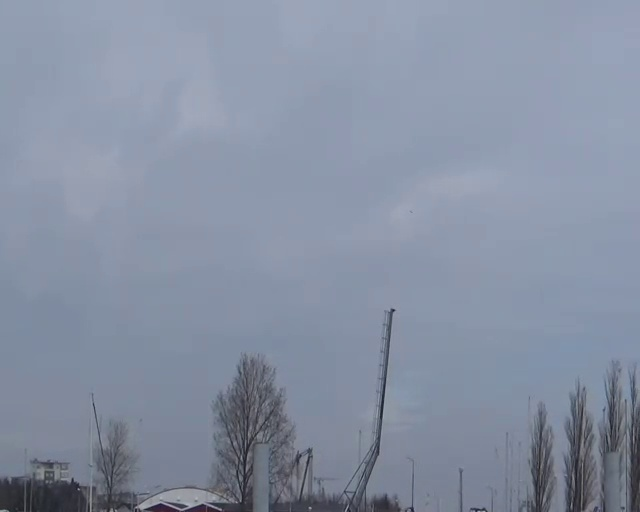BIRD: (409, 203, 419, 216)
